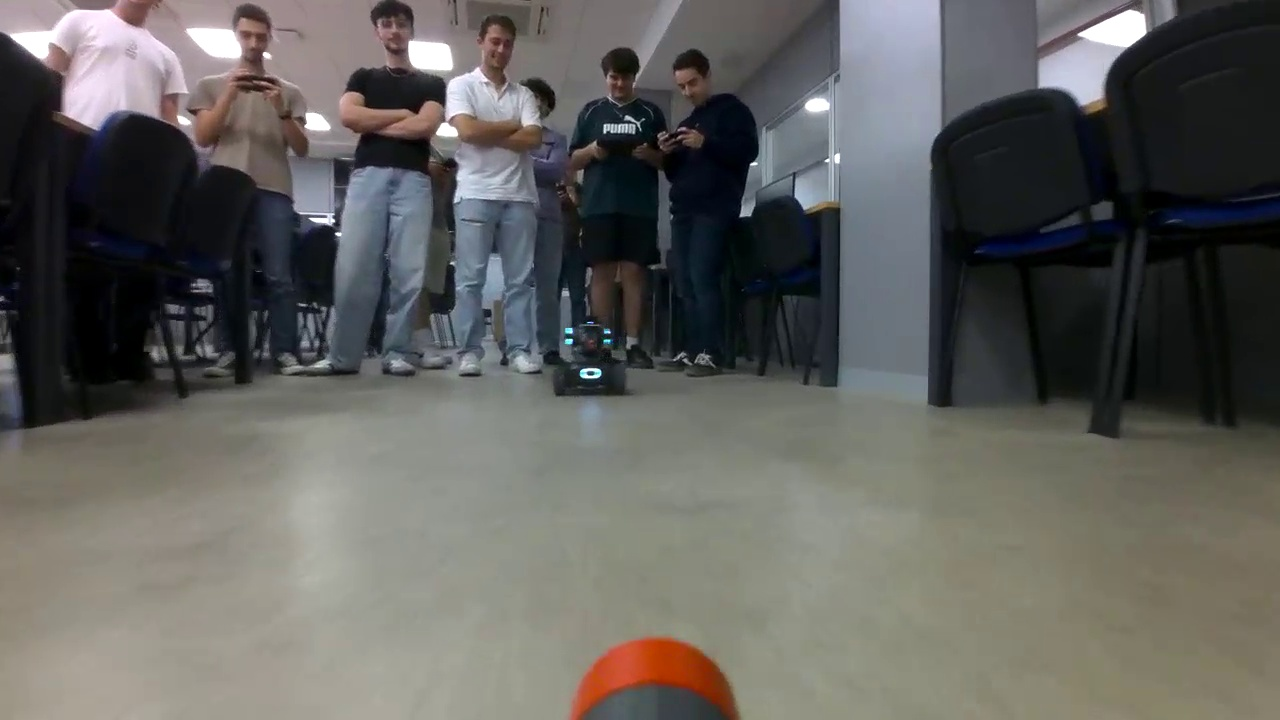robot: (552, 318, 628, 395)
